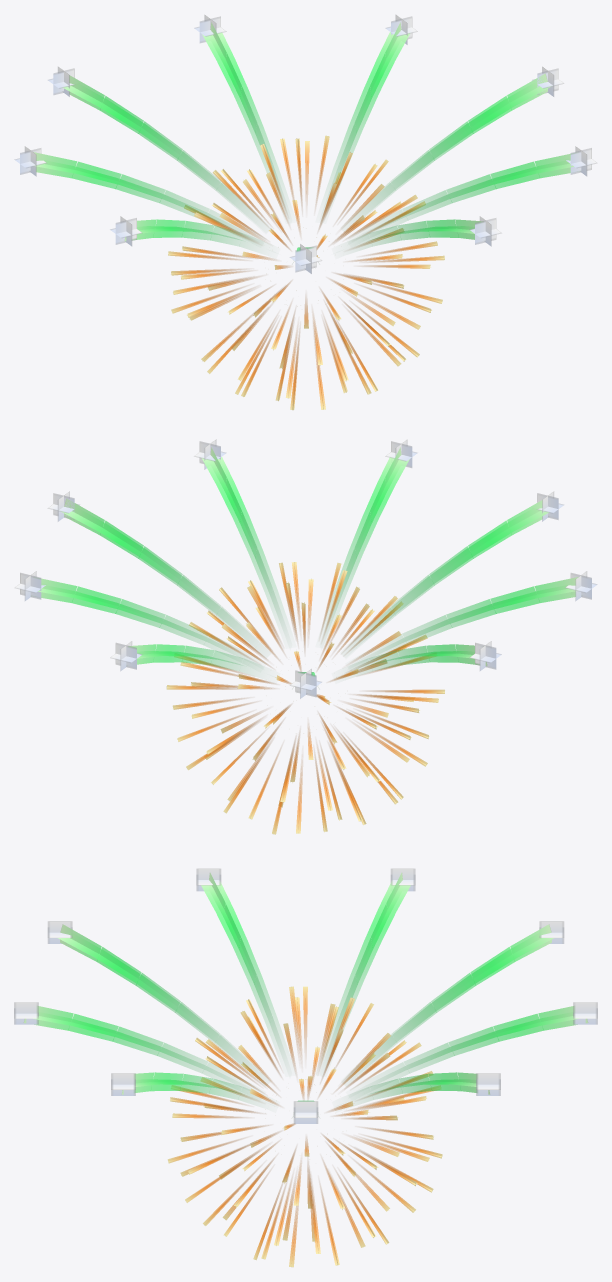
Rendered from fw_palm_green_gold_a.glb.
3 views of the same model, one above another, from view 1: azimuth 30°, elevation 25°; view 2: azimuth 150°, elevation 25°; view 3: azimuth 270°, elevation 25° (orthographic).
Visible parts, largest first — view 1: spire; view 2: spire; view 3: spire.
Part boxes in pixels (x1,y1,x2,y2): spire: (14, 15, 596, 410); spire: (15, 439, 597, 834); spire: (14, 868, 597, 1267).
Bounding box in the file's own units: 16.22 × 8.48 × 16.46.
Materials: 3 (3 with a texture image).
